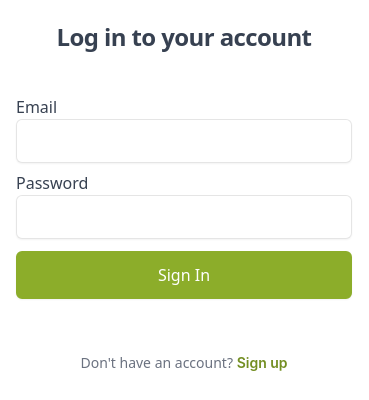
Test case: Signin Component › shows validation errors on empty submission
Click the button "Sign In" at (184, 275), box 16,251 -> 352,299
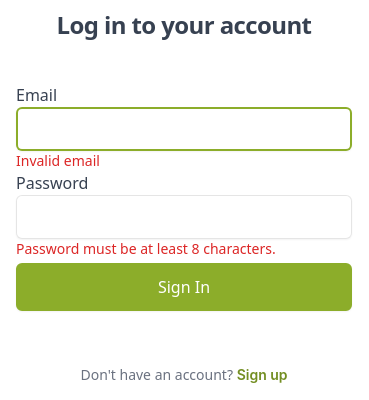
Expected: the text "Invalid email" is shown, 16,151 -> 100,170
Expected: the text "Password must be at least 8 characters." is shown, 16,239 -> 276,258
